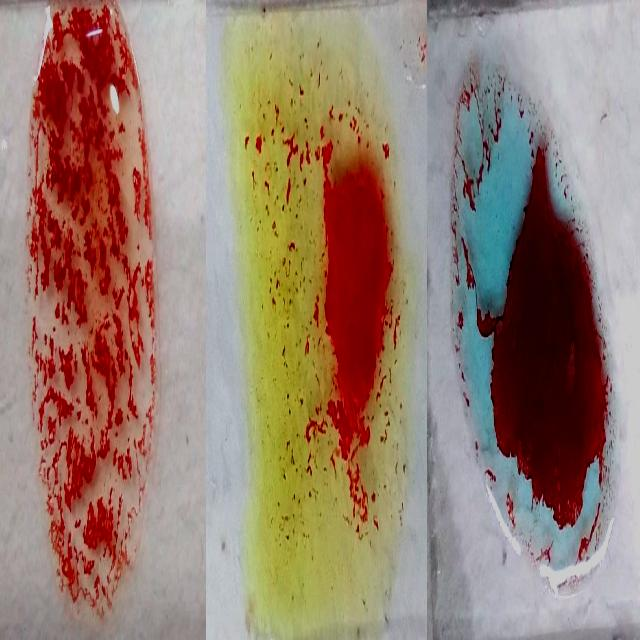A: (456, 55, 618, 597)
B: (245, 30, 405, 602), (29, 2, 158, 624)
